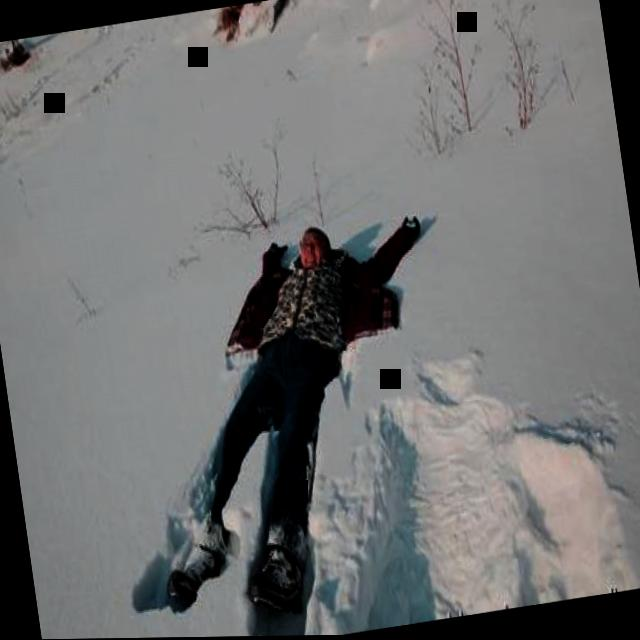Fall-Detected: (69, 185, 492, 633)
